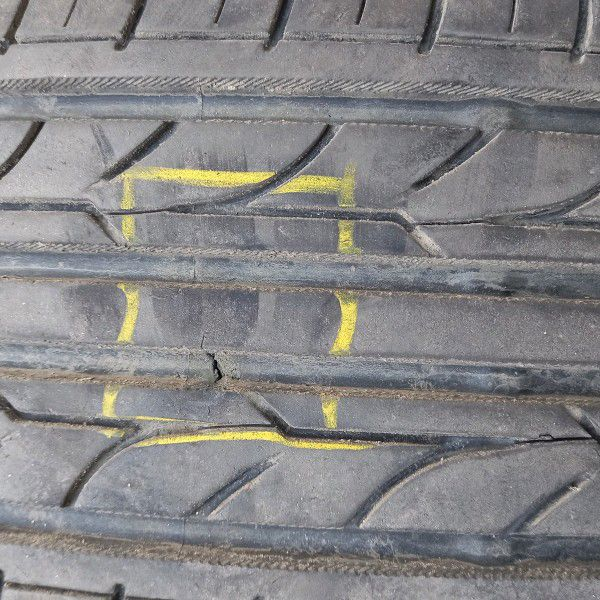tr: (200, 340, 233, 392)
